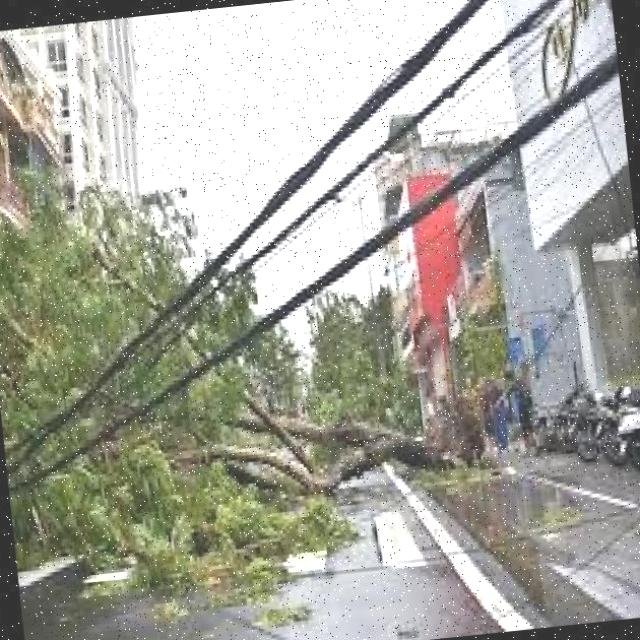fallen_object: (0, 161, 565, 568)
